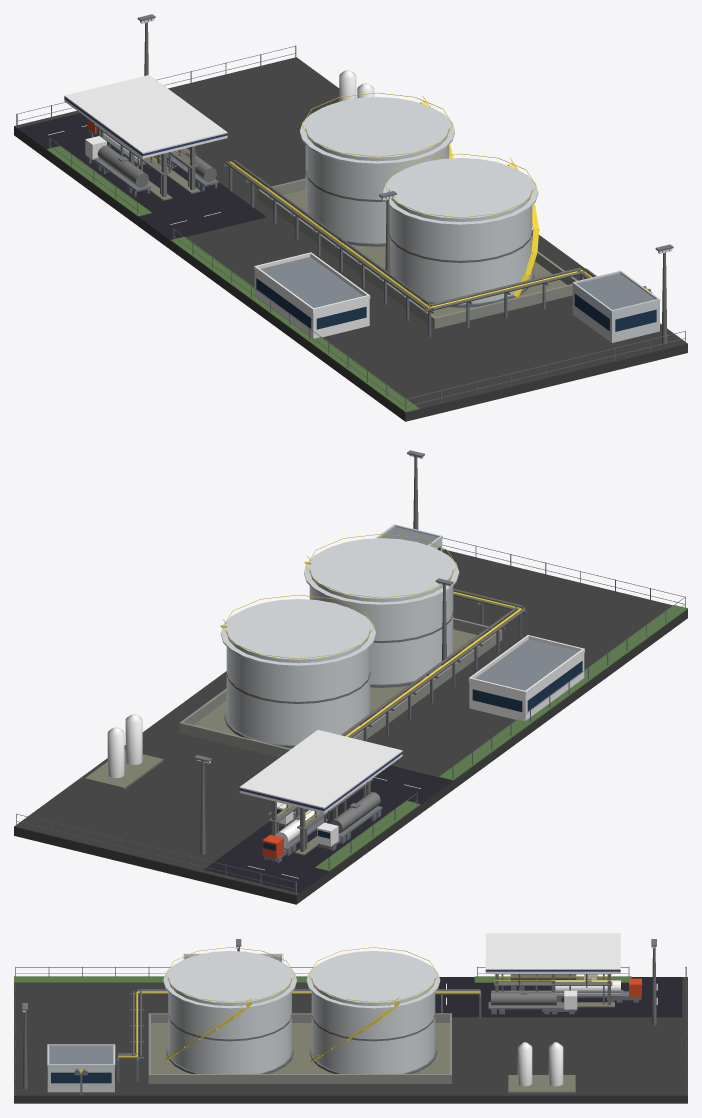
Rendered from top-prebuilt.fbx.
3 views of the same model, one above another, from view 1: azimuth 30°, elevation 25°; view 2: azimuth 150°, elevation 25°; view 3: azimuth 270°, elevation 25° (orthographic). The views are drawn at different scales.
Parts seen in each view (by area): view 1: a1080_0_top-prebuilt; view 2: a1080_0_top-prebuilt; view 3: a1080_0_top-prebuilt.
Boxes of the visible parts, <box> form: a1080_0_top-prebuilt: <box>14,14,687,421</box>; a1080_0_top-prebuilt: <box>14,450,687,904</box>; a1080_0_top-prebuilt: <box>14,933,687,1103</box>.
Bounding box in the file's own units: 50 × 17.75 × 120.
